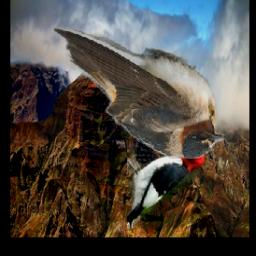Swallow: (52, 28, 223, 160)
Woodpecker: (126, 145, 206, 230)
